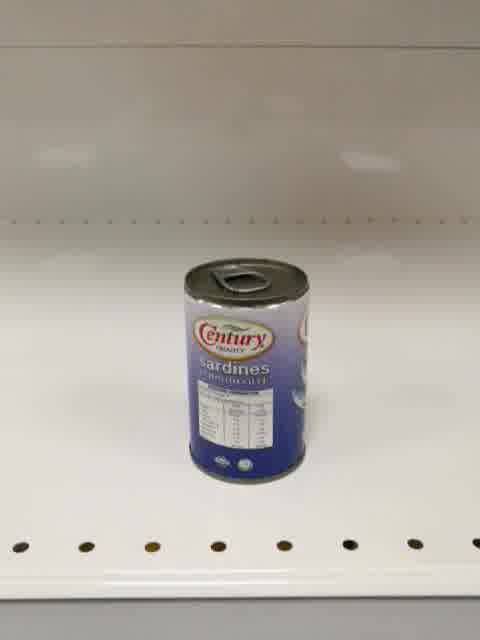sardine: (182, 257, 311, 486)
